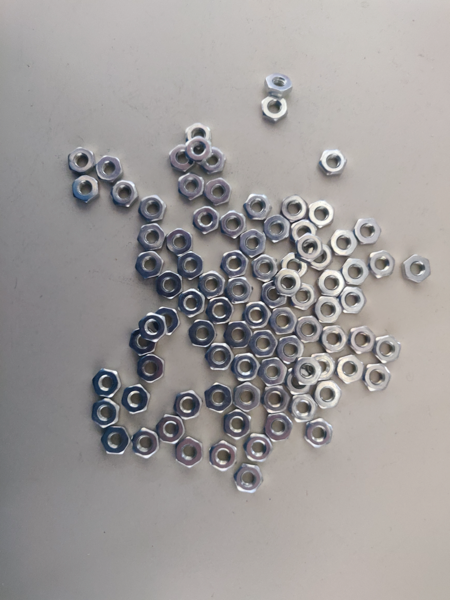nut: (234, 464, 264, 494), (92, 368, 121, 399), (157, 414, 186, 445), (174, 390, 203, 420), (305, 418, 333, 449), (373, 334, 402, 363), (90, 399, 120, 427), (259, 358, 289, 386), (231, 353, 261, 381), (224, 321, 254, 349), (243, 301, 273, 329), (336, 355, 364, 385), (210, 441, 237, 472), (176, 436, 202, 468), (123, 385, 151, 414), (139, 314, 168, 342), (244, 434, 273, 462), (265, 413, 293, 442), (403, 255, 431, 284), (261, 386, 290, 414), (290, 394, 318, 423), (225, 410, 252, 440), (205, 383, 232, 413), (234, 382, 261, 412), (205, 344, 235, 371), (249, 330, 279, 357), (133, 428, 159, 459), (102, 427, 130, 455), (294, 357, 322, 385), (349, 326, 377, 354), (136, 251, 165, 278), (138, 354, 165, 383), (206, 297, 235, 324), (189, 320, 218, 347), (318, 270, 347, 297), (278, 335, 305, 364), (320, 326, 349, 353), (221, 250, 248, 278), (226, 277, 254, 304), (342, 258, 370, 285), (315, 381, 342, 409), (244, 194, 273, 220), (179, 289, 205, 318), (370, 250, 396, 279), (205, 178, 232, 205), (341, 287, 368, 314), (315, 297, 342, 324), (271, 308, 298, 335), (112, 180, 138, 208), (201, 146, 227, 174), (265, 215, 291, 243), (276, 269, 302, 297), (365, 364, 391, 392), (298, 233, 323, 262), (235, 382, 260, 411), (320, 149, 347, 175), (139, 196, 166, 222), (138, 224, 165, 250), (194, 207, 220, 234), (356, 218, 382, 245), (331, 231, 358, 257), (130, 329, 156, 356), (297, 316, 323, 343), (180, 172, 205, 200), (179, 252, 204, 280), (158, 271, 183, 299), (253, 255, 278, 283), (242, 230, 267, 257), (156, 308, 181, 335), (282, 253, 309, 278), (309, 244, 334, 271), (262, 281, 287, 308), (311, 353, 336, 380), (222, 211, 246, 239), (200, 271, 224, 299), (69, 148, 95, 173), (310, 200, 335, 226), (74, 175, 98, 202), (168, 229, 192, 256), (265, 73, 294, 95), (186, 136, 211, 161), (283, 196, 308, 221), (292, 284, 316, 310), (288, 368, 311, 395), (97, 157, 122, 181), (170, 145, 195, 169), (263, 97, 288, 120), (186, 123, 211, 140), (293, 222, 317, 239)
